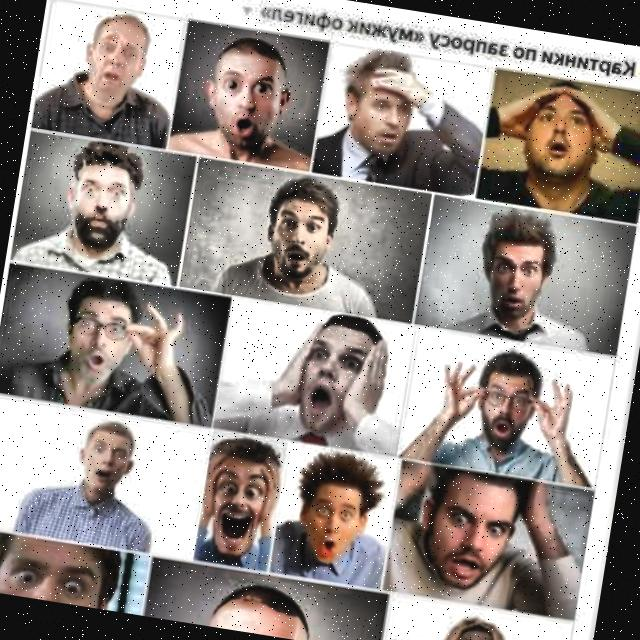surprised: (234, 295, 413, 449), (17, 278, 205, 414), (388, 459, 562, 598), (174, 26, 322, 169), (422, 337, 598, 454), (491, 71, 637, 202), (218, 165, 363, 291), (26, 130, 163, 261), (449, 206, 586, 337), (311, 41, 453, 163), (269, 442, 393, 580), (46, 5, 173, 122), (0, 527, 139, 613), (185, 439, 284, 554), (53, 416, 168, 514), (436, 599, 551, 640)
